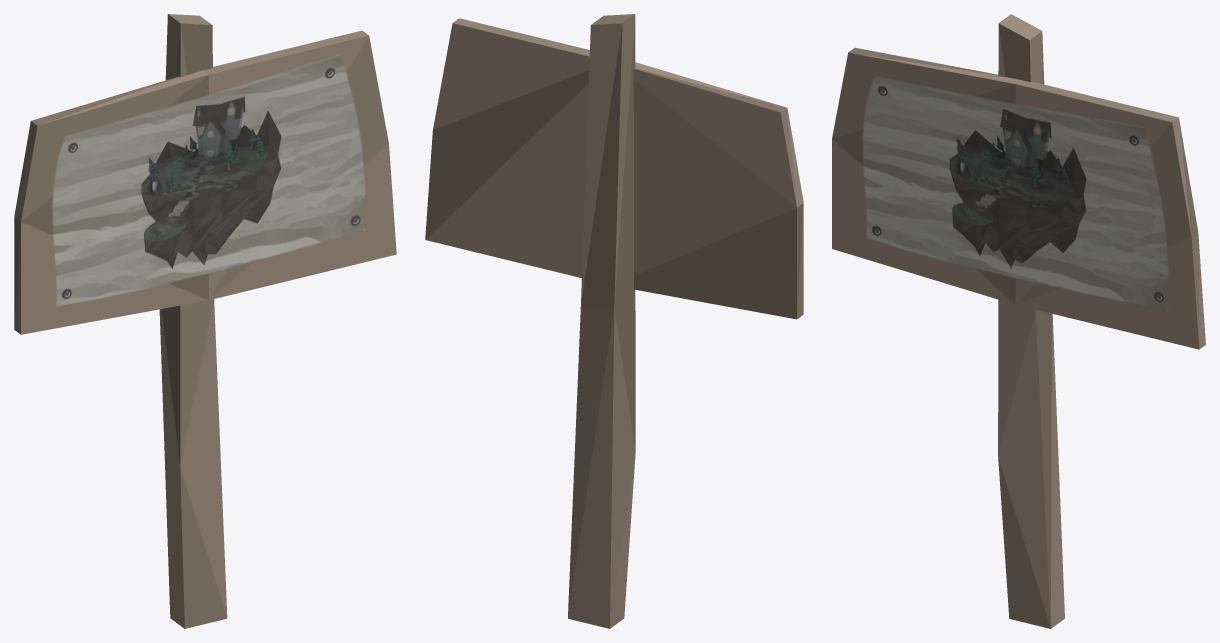
File: Cartel_fantasma.FBX
3 renders of one model, left to right at view 1: azimuth 30°, elevation 25°; view 2: azimuth 150°, elevation 25°; view 3: azimuth 330°, elevation 25°, orthographic. The views are drawn at different scales.
Visible parts, largest first — view 1: Poste002; view 2: Poste002; view 3: Poste002.
Part boxes in pixels (box(x1,y1,x2,y2)): Poste002: box(14, 14, 396, 628); Poste002: box(425, 14, 803, 628); Poste002: box(832, 14, 1205, 628).
Bounding box in the file's own units: 87.02 × 135 × 10.74.
1 material, 1 textured.
